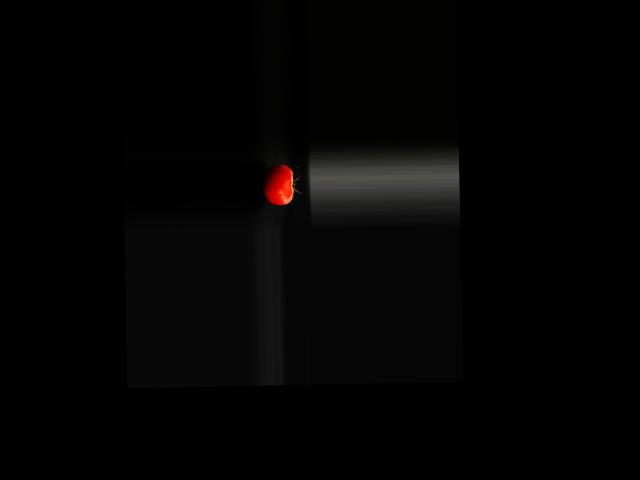tomato: (262, 164, 293, 206)
